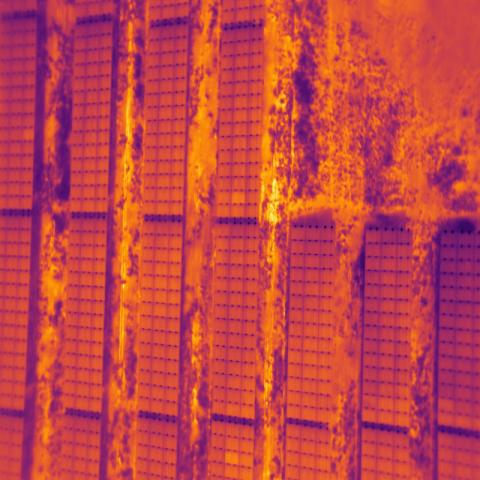fault: (0, 477, 480, 480), (226, 449, 239, 465), (232, 191, 245, 204)
